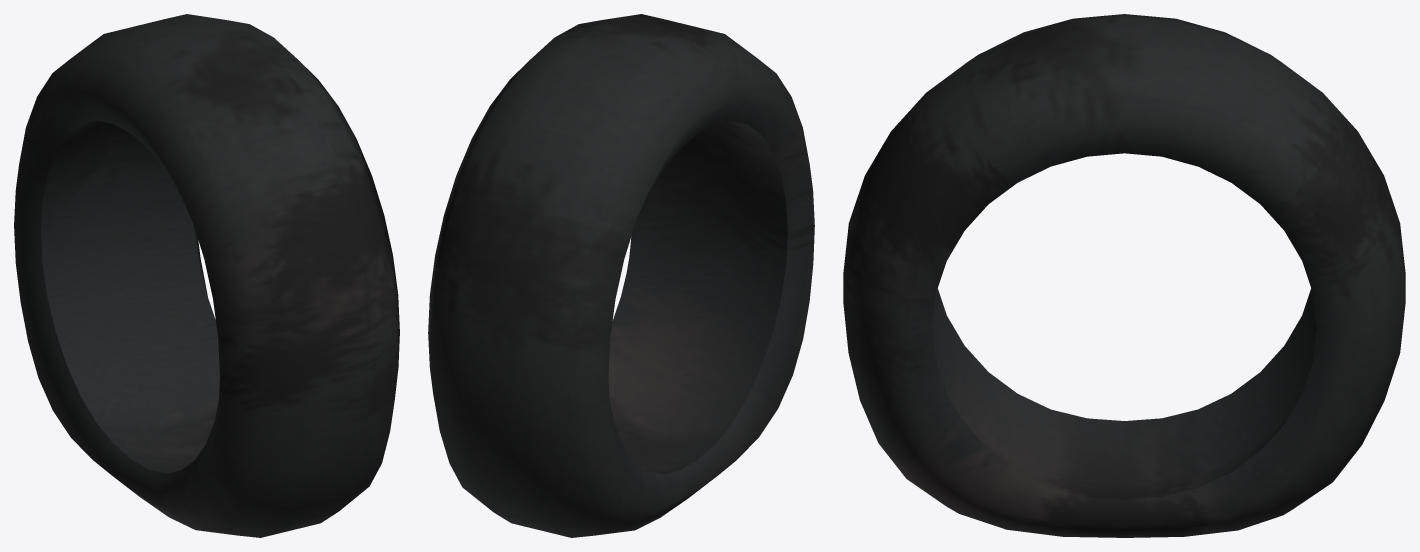
File: Tire_Deflated.fbx
3 views of the same model, side by side, from view 1: azimuth 30°, elevation 25°; view 2: azimuth 150°, elevation 25°; view 3: azimuth 270°, elevation 25° (orthographic). The views are drawn at different scales.
Parts seen in each view (by area): view 1: Tire; view 2: Tire; view 3: Tire.
Part boxes in pixels (bbox=[...]): Tire: bbox=[14, 14, 399, 537]; Tire: bbox=[428, 14, 814, 537]; Tire: bbox=[843, 14, 1405, 537].
Size of the model in its own units: 25.18 by 60.36 by 64.
